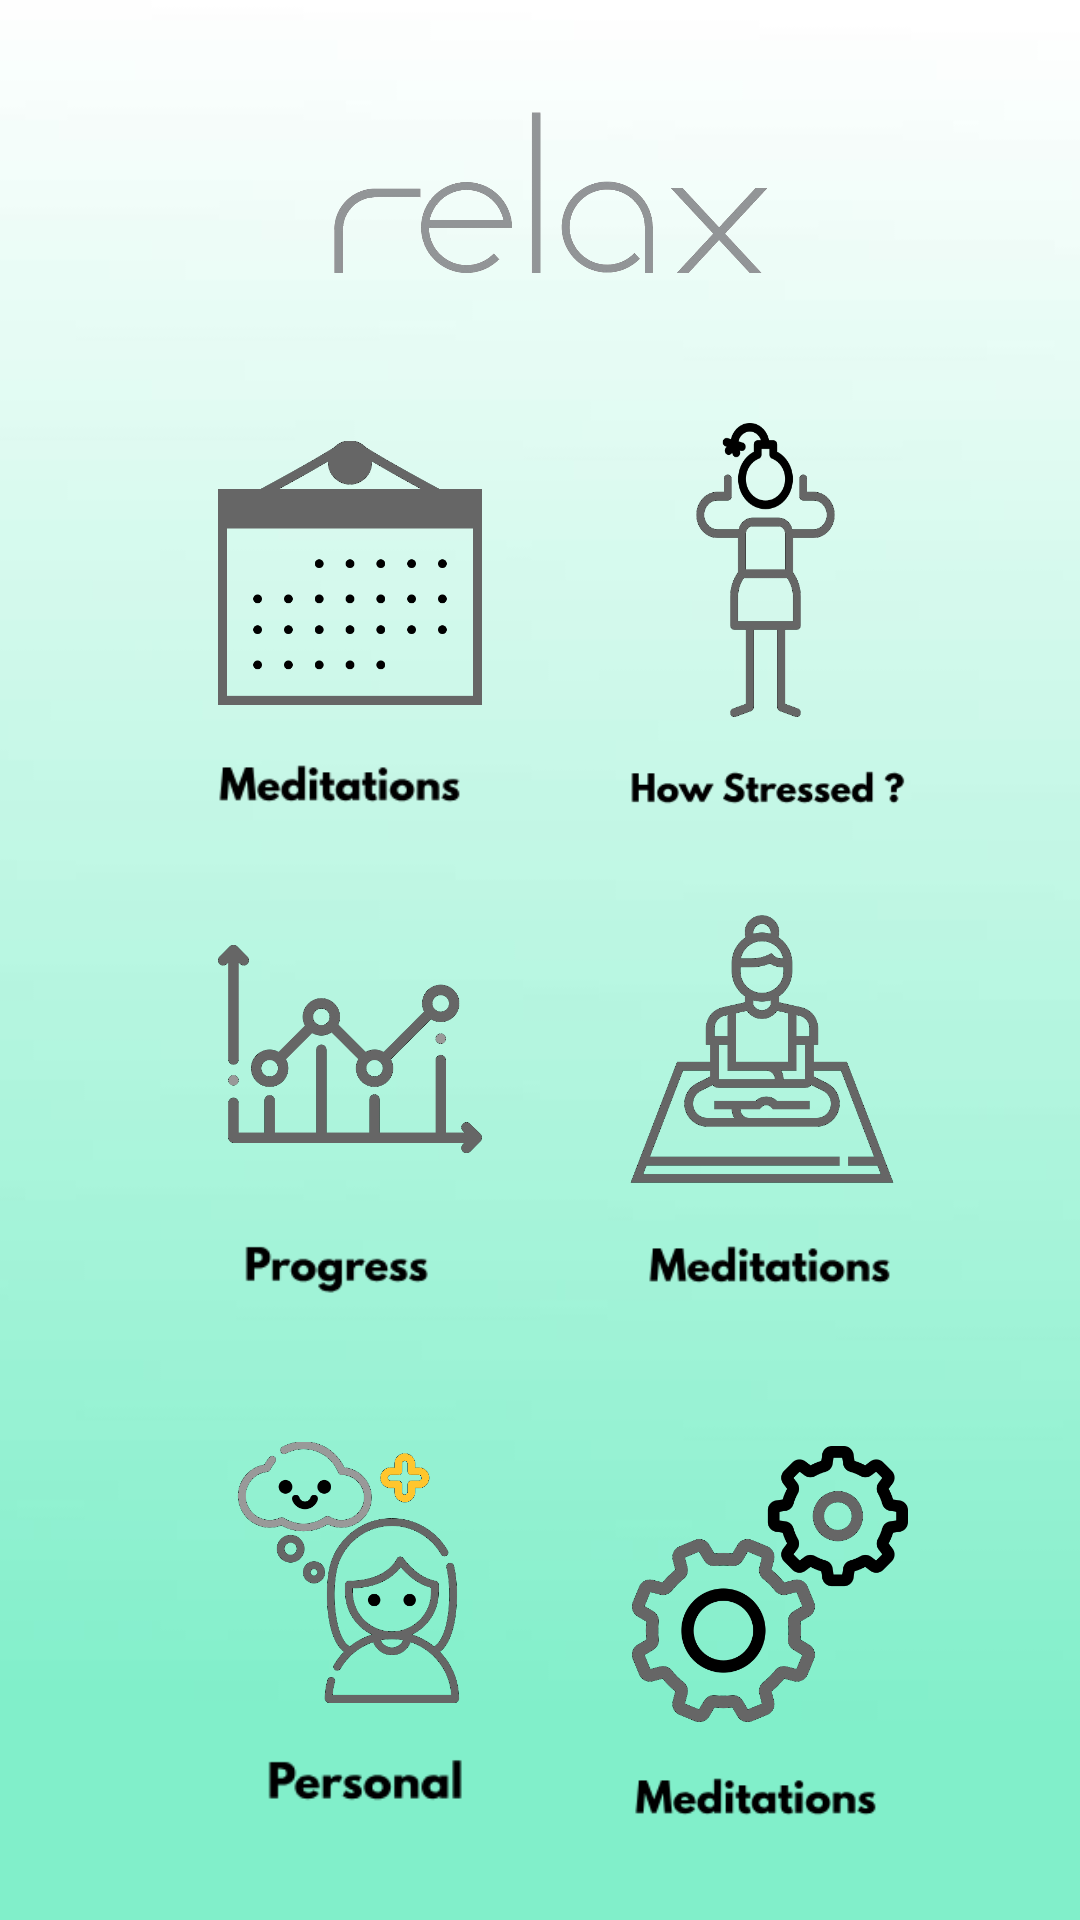

Screen size 1080×1920. Icon name, then its center in pixels as (x,y):
calendar: (350,564)
settings: (770,1569)
